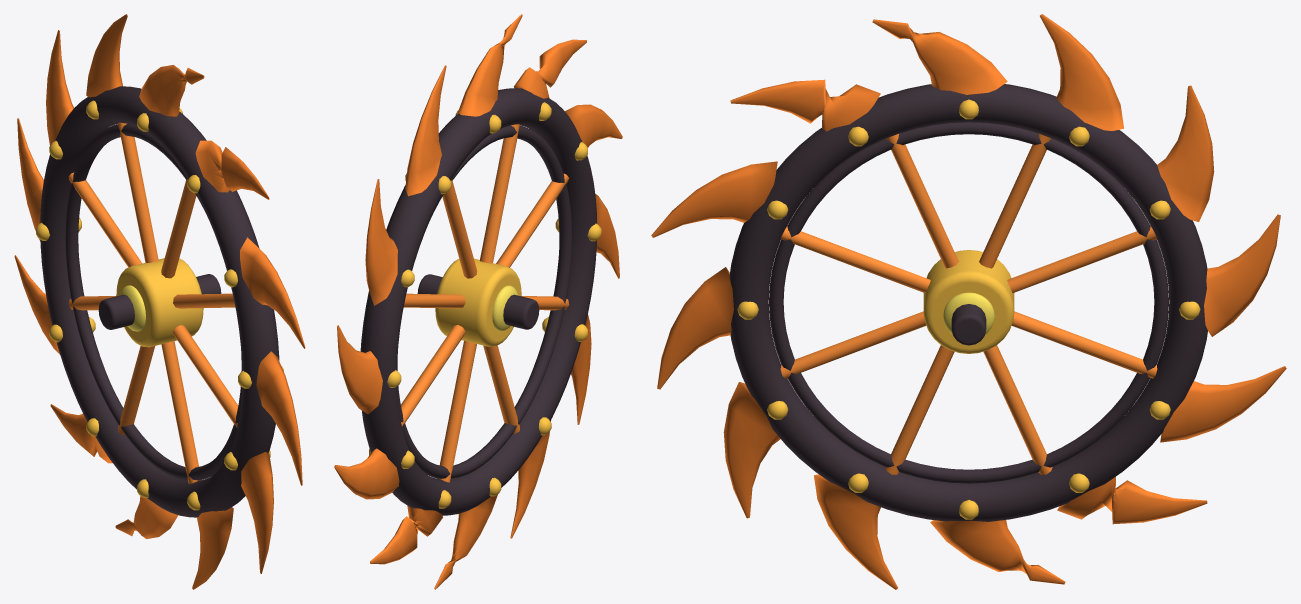
Rendered from SunWheel.obj.
3 views of the same model, side by side, from view 1: azimuth 30°, elevation 25°; view 2: azimuth 150°, elevation 25°; view 3: azimuth 270°, elevation 25° (orthographic). The views are drawn at different scales.
Visible parts, largest first — view 1: Rim, Flames, Spokes, Trim, Eye; view 2: Rim, Flames, Spokes, Trim, Eye; view 3: Rim, Flames, Spokes, Trim, Eye.
Part boxes in pixels (bbox=[...]): Rim: bbox=[40, 86, 279, 517]; Flames: bbox=[14, 14, 305, 589]; Spokes: bbox=[68, 122, 238, 484]; Trim: bbox=[36, 100, 283, 510]; Eye: bbox=[119, 285, 145, 331]; Rim: bbox=[360, 88, 596, 515]; Flames: bbox=[334, 14, 622, 589]; Spokes: bbox=[401, 124, 569, 482]; Trim: bbox=[369, 102, 601, 508]; Eye: bbox=[492, 285, 518, 331]; Rim: bbox=[729, 84, 1207, 521]; Flames: bbox=[651, 14, 1286, 589]; Spokes: bbox=[780, 134, 1157, 474]; Trim: bbox=[737, 99, 1200, 519]; Eye: bbox=[943, 292, 994, 334].
Size of the model in its own units: 6.4 by 29.35 by 29.35.
